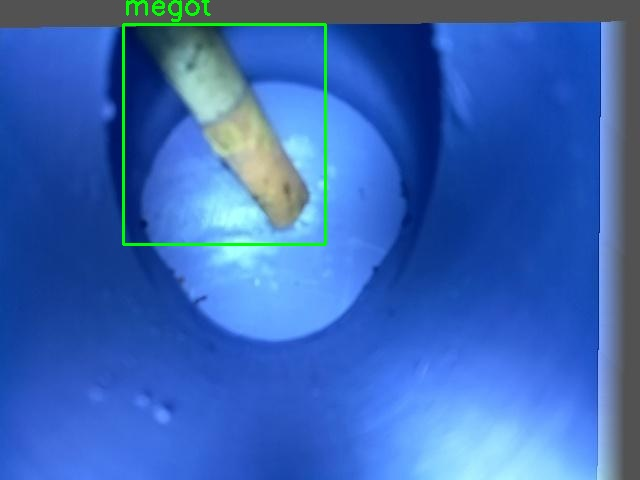megot: (123, 24, 325, 244)
